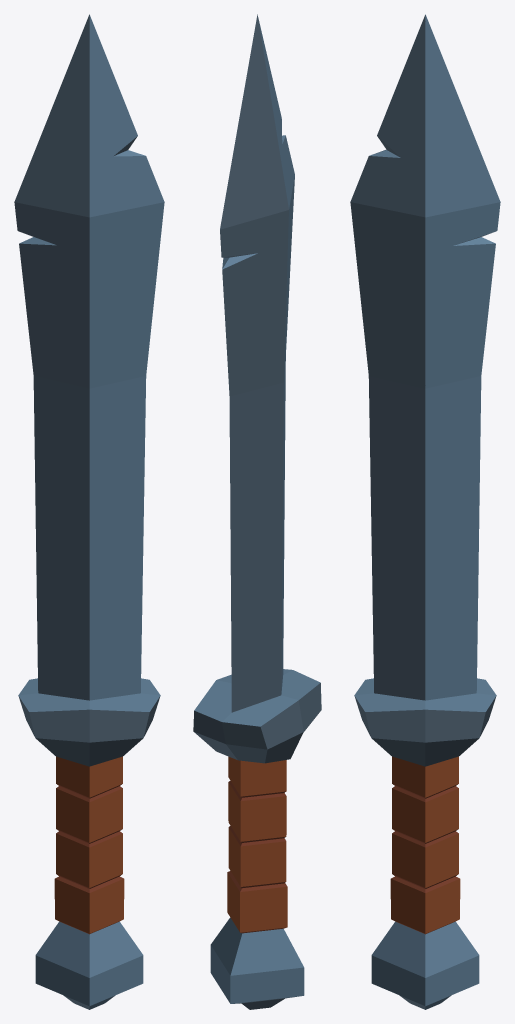
The model's file is SM_Gladius_A.fbx.
3 renders of one model, left to right at view 1: azimuth 90°, elevation 25°; view 2: azimuth 150°, elevation 25°; view 3: azimuth 270°, elevation 25°, orthographic.
Visible parts, largest first — view 1: SM_Gladius_A; view 2: SM_Gladius_A; view 3: SM_Gladius_A.
Boxes of the visible parts, bbox=[...] form: SM_Gladius_A: bbox=[14, 14, 164, 1009]; SM_Gladius_A: bbox=[193, 14, 321, 1009]; SM_Gladius_A: bbox=[350, 14, 500, 1009].
Bounding box in the file's own units: 0.1386 × 1.4 × 0.1928.
